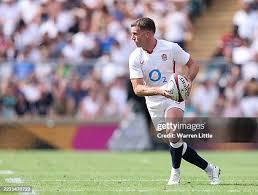ballon_rugby: (167, 72, 191, 102)
